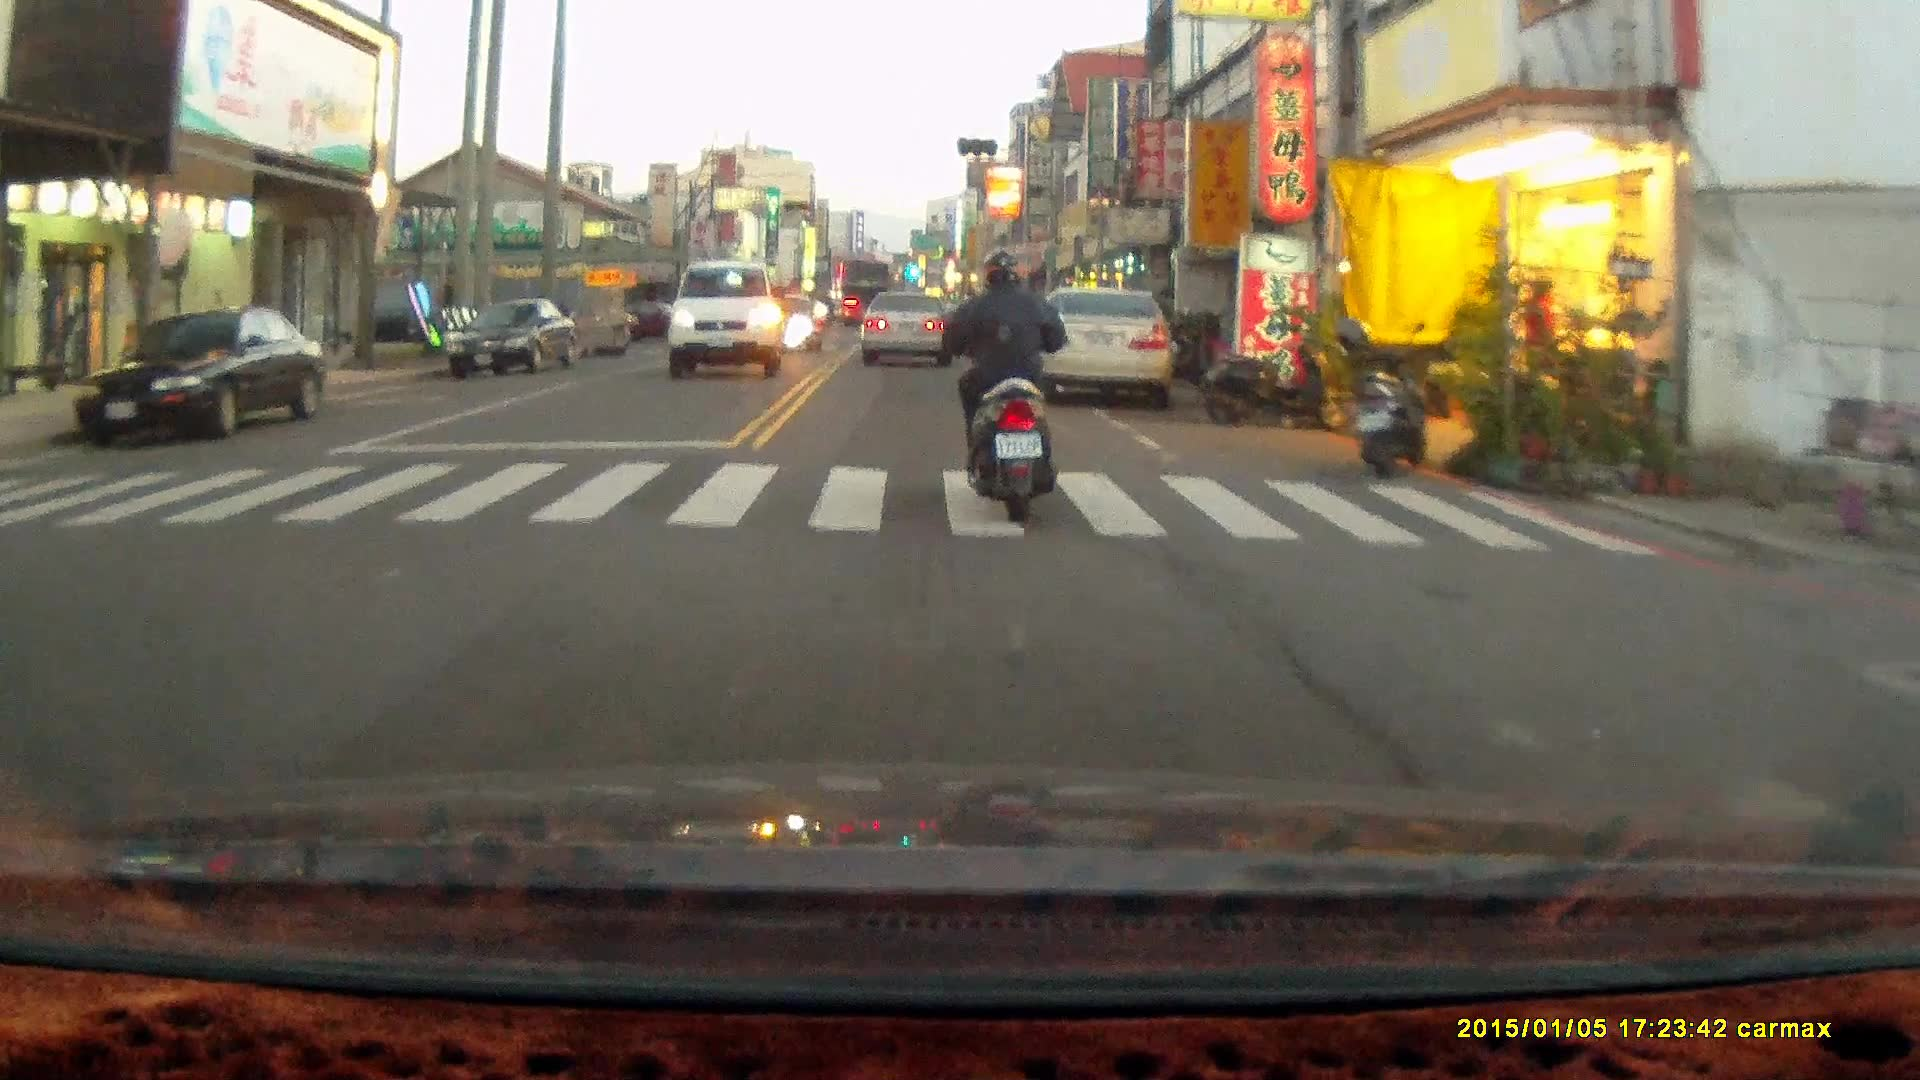pedestrian: (1523, 278, 1560, 405)
rider: (938, 245, 1066, 520)
vehicle: (75, 309, 326, 448), (1031, 285, 1178, 410), (667, 263, 787, 386), (448, 303, 576, 387), (857, 288, 954, 365)
